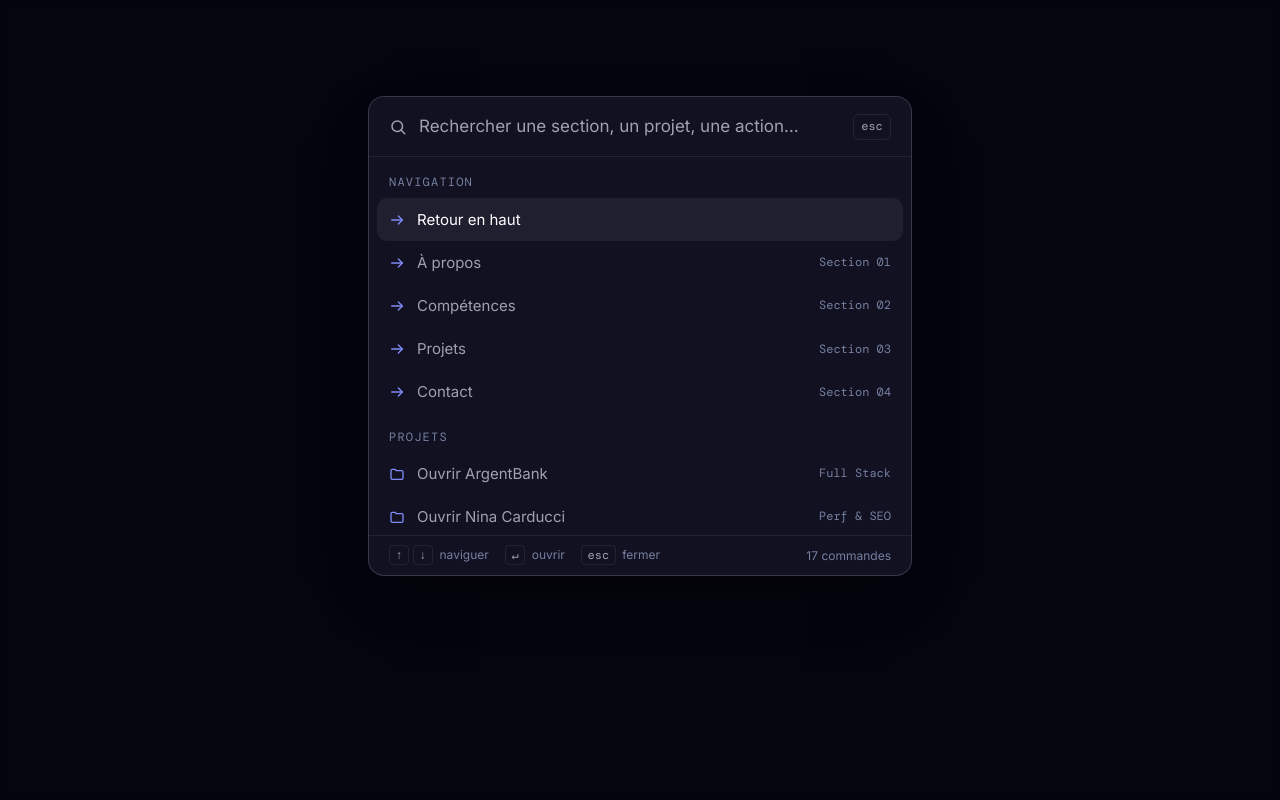
Test: CommandPalette › filtre en recherche approximative
Step 1. Type "kasa" into the dropdown → (630, 127), box [419,113,841,140]
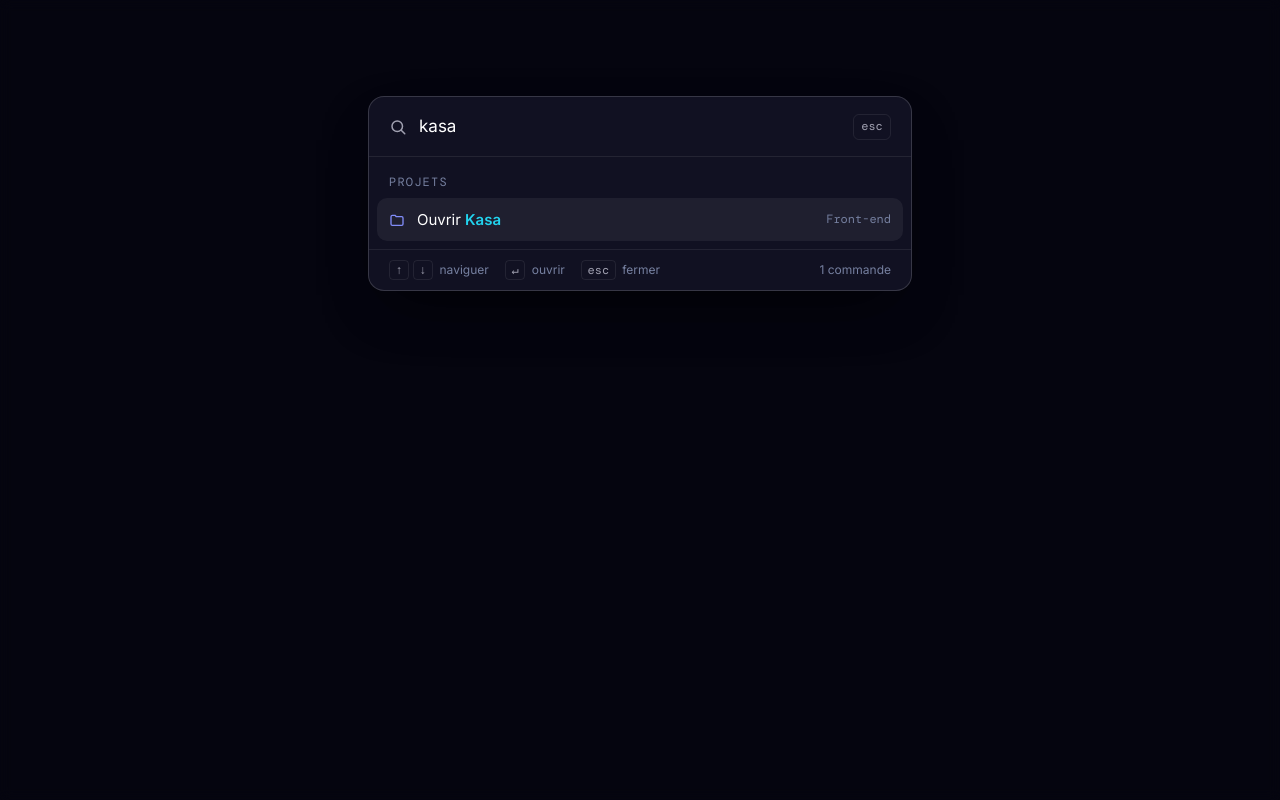
Expected: the option shows "Kasa", [377,198,903,241]
